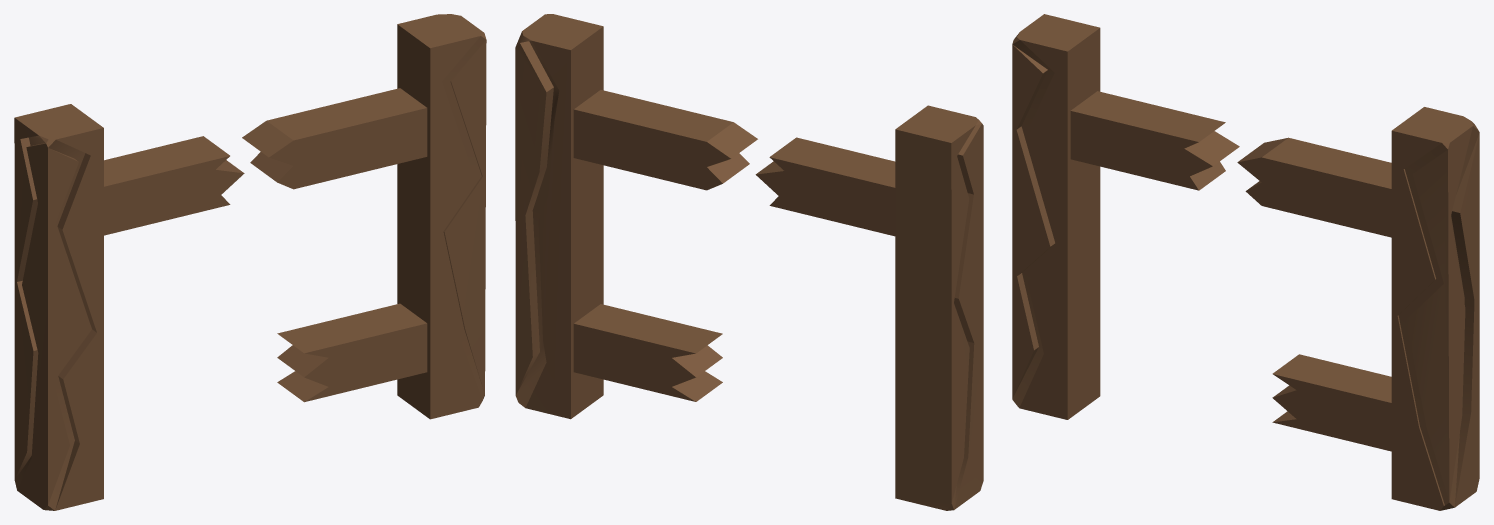
File: Valla rota.fbx
3 renders of one model, left to right at view 1: azimuth 30°, elevation 25°; view 2: azimuth 150°, elevation 25°; view 3: azimuth 330°, elevation 25°, orthographic.
Parts seen in each view (by area): view 1: polySurface490; view 2: polySurface490; view 3: polySurface490.
Boxes of the visible parts, x1,y1,x2,y2 form: polySurface490: [14, 14, 486, 510]; polySurface490: [515, 14, 983, 510]; polySurface490: [1012, 14, 1479, 510].
Bounding box in the file's own units: 2.99 × 2.42 × 0.3883.
